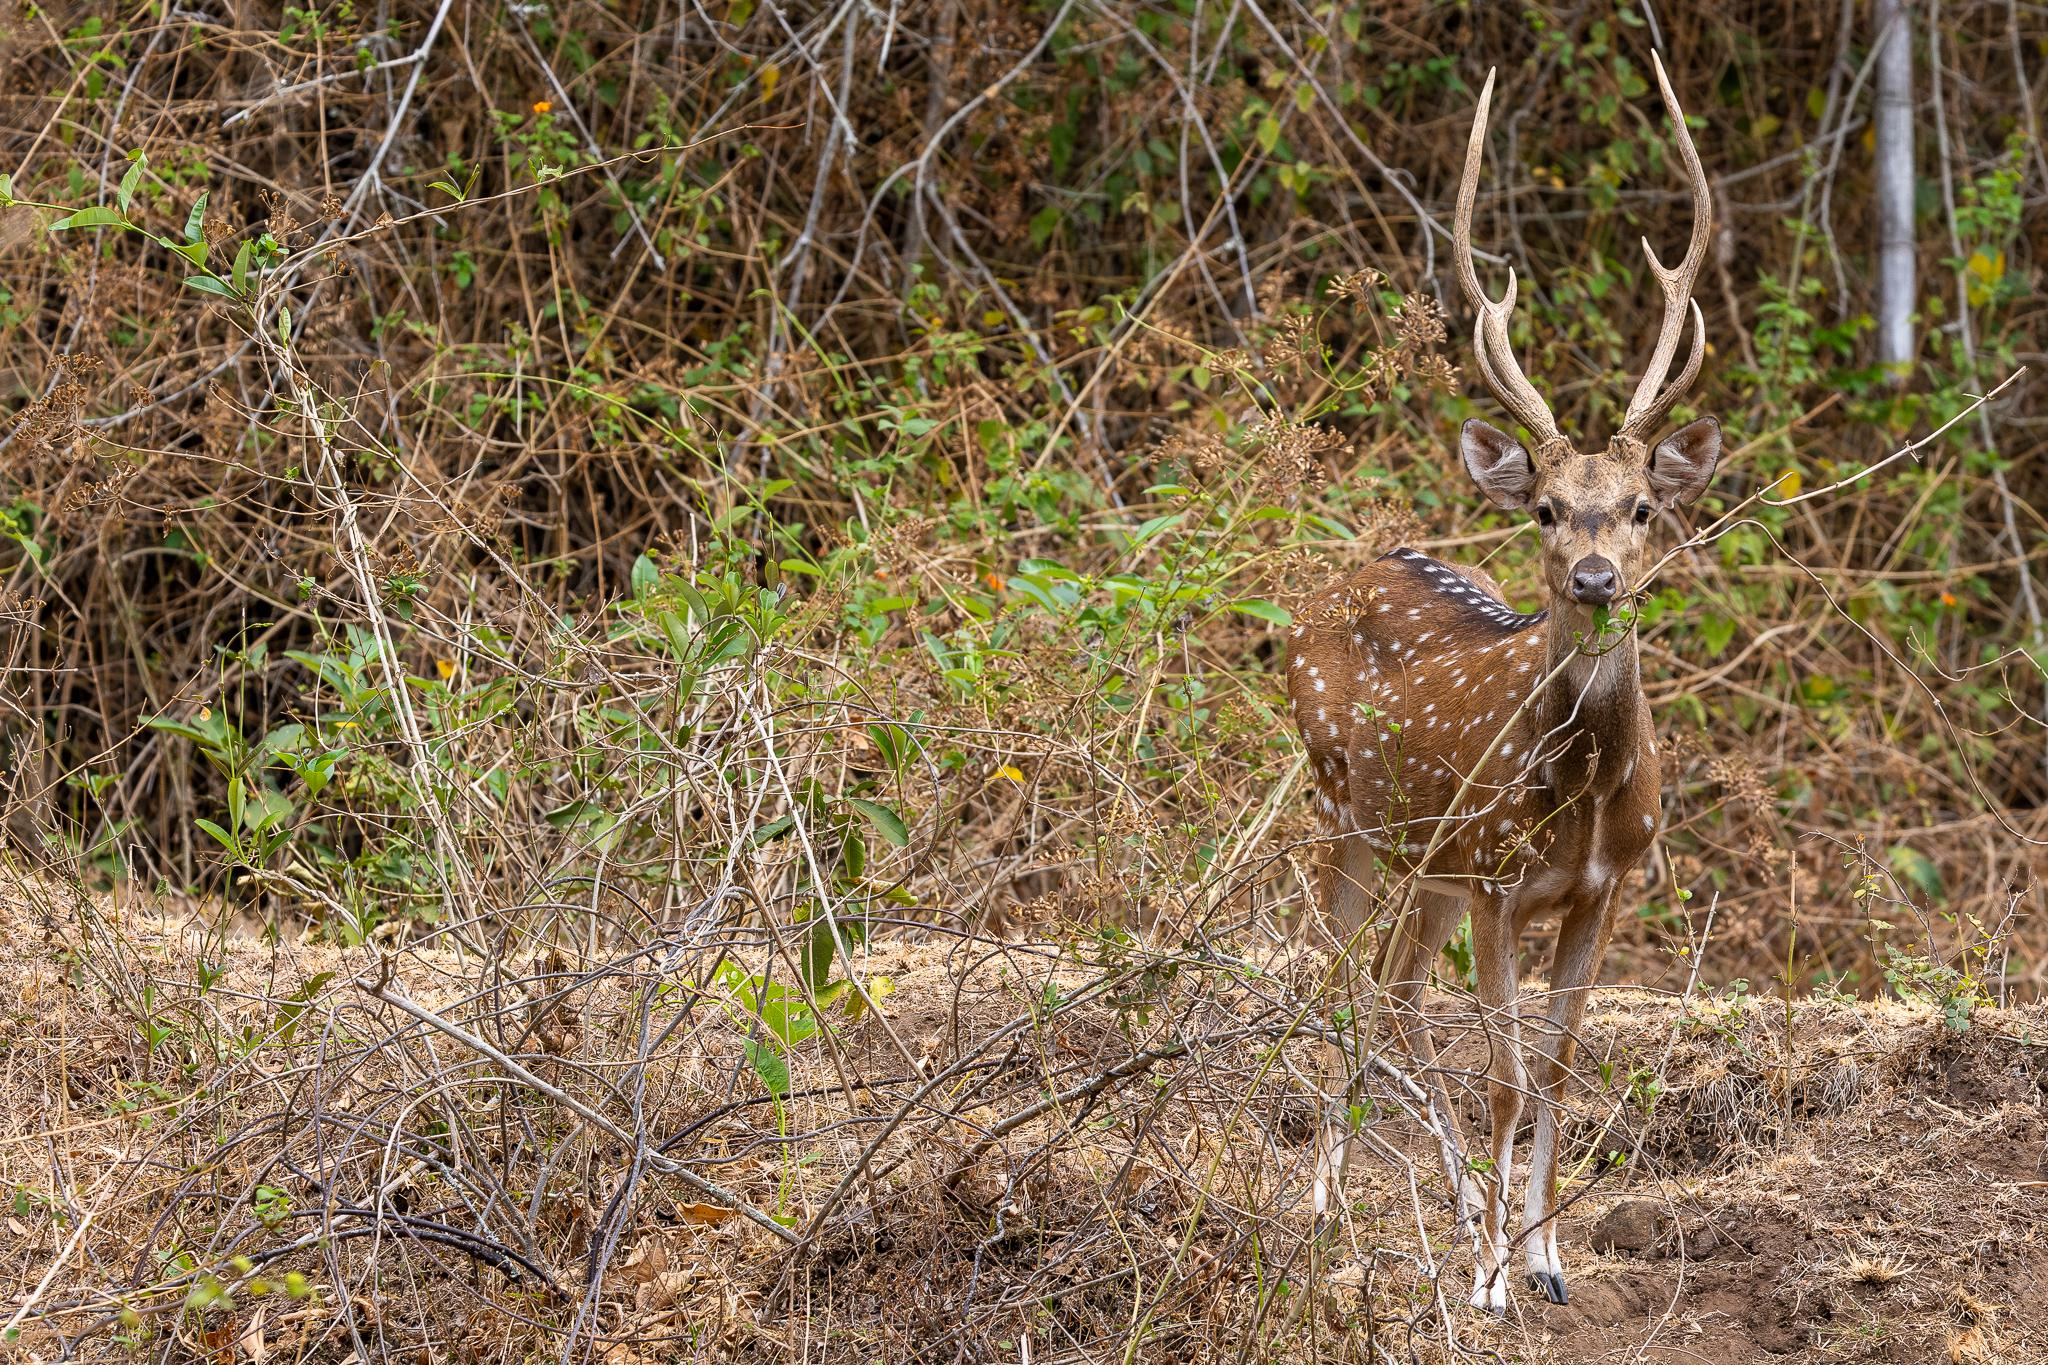Deer: (1288, 73, 1724, 1309)
